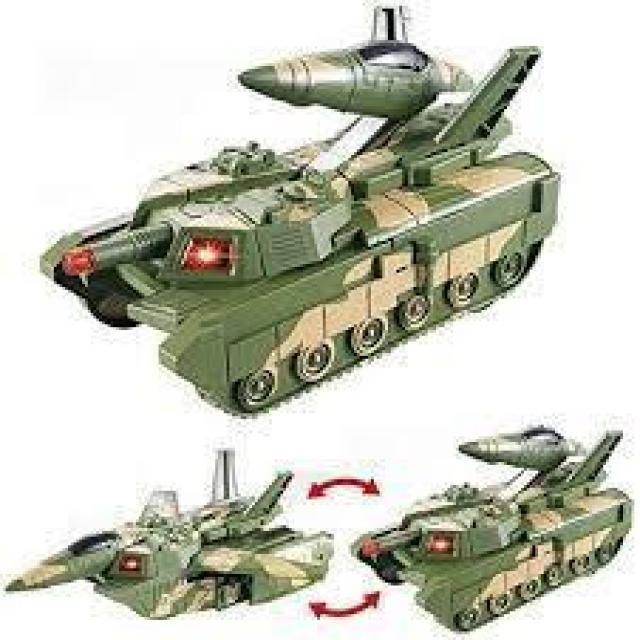Tanks: (28, 30, 572, 386), (367, 428, 565, 622)
